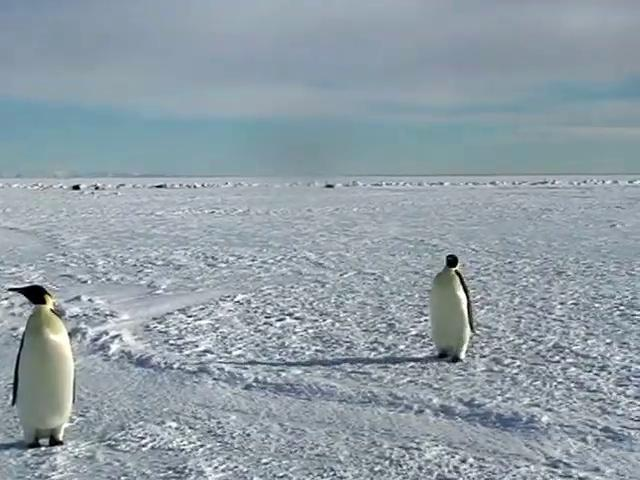animal: (8, 285, 74, 446)
